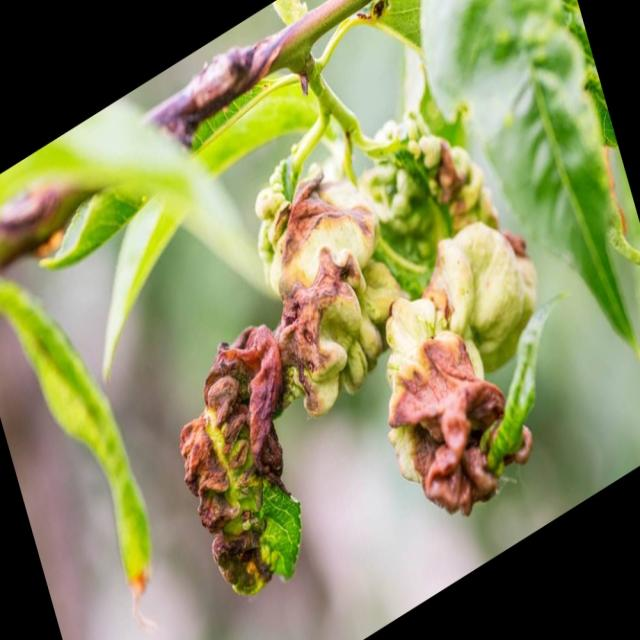peach_leaf_curl: (221, 150, 522, 554)
